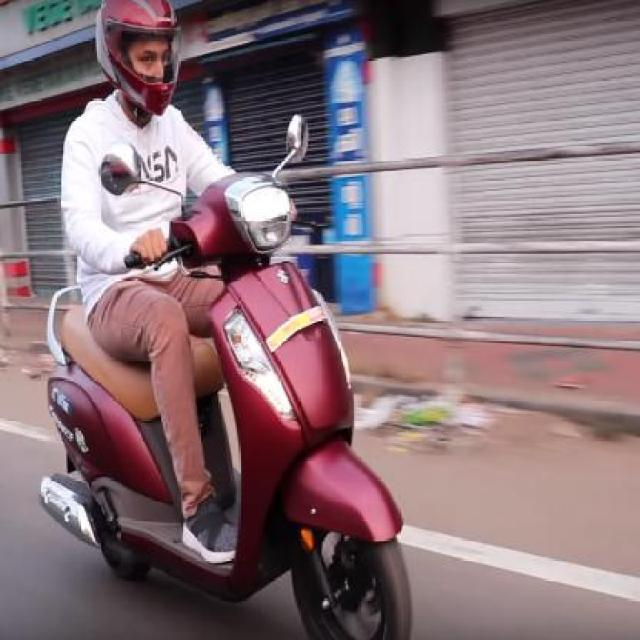helmet: (81, 0, 196, 125)
motorcycle: (35, 0, 448, 640)
